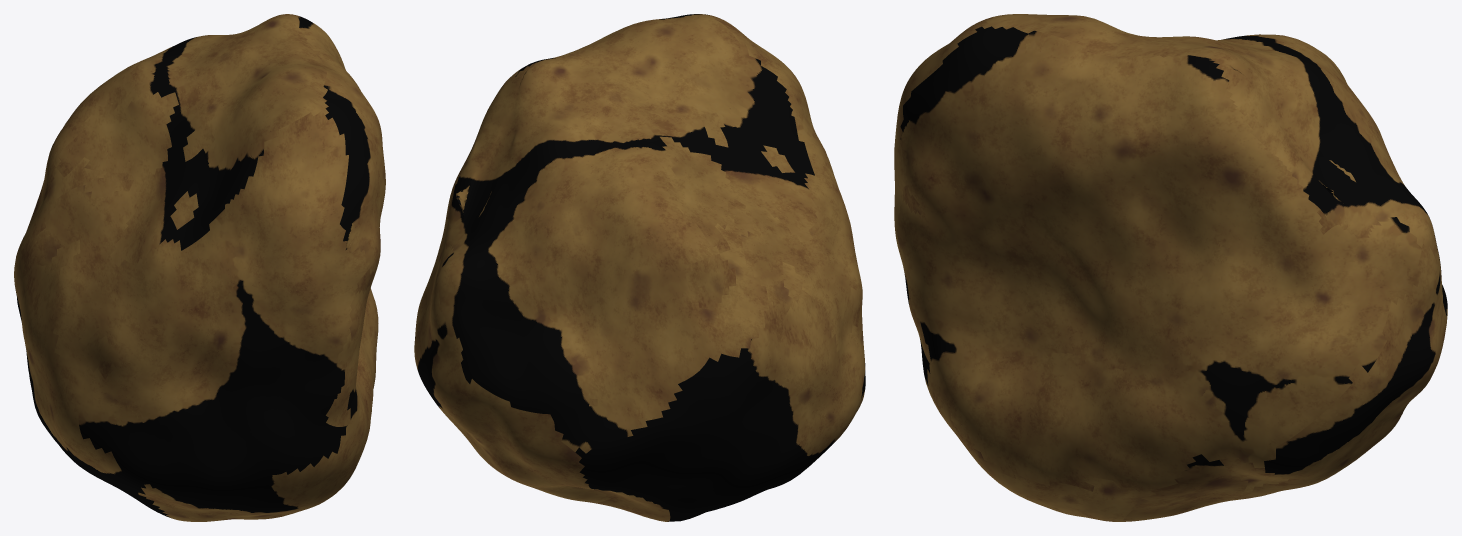
The picture shows the model from 3 angles, left to right: view 1: azimuth 30°, elevation 25°; view 2: azimuth 150°, elevation 25°; view 3: azimuth 270°, elevation 25°; orthographic projection. The views are drawn at different scales.
Visible parts, largest first — view 1: original_ico.019; view 2: original_ico.019; view 3: original_ico.019.
Part boxes in pixels (x1,y1,x2,y2): original_ico.019: [14, 14, 385, 521]; original_ico.019: [414, 14, 865, 521]; original_ico.019: [894, 14, 1447, 521].
Bounding box in the file's own units: 2.51 × 3.02 × 3.
